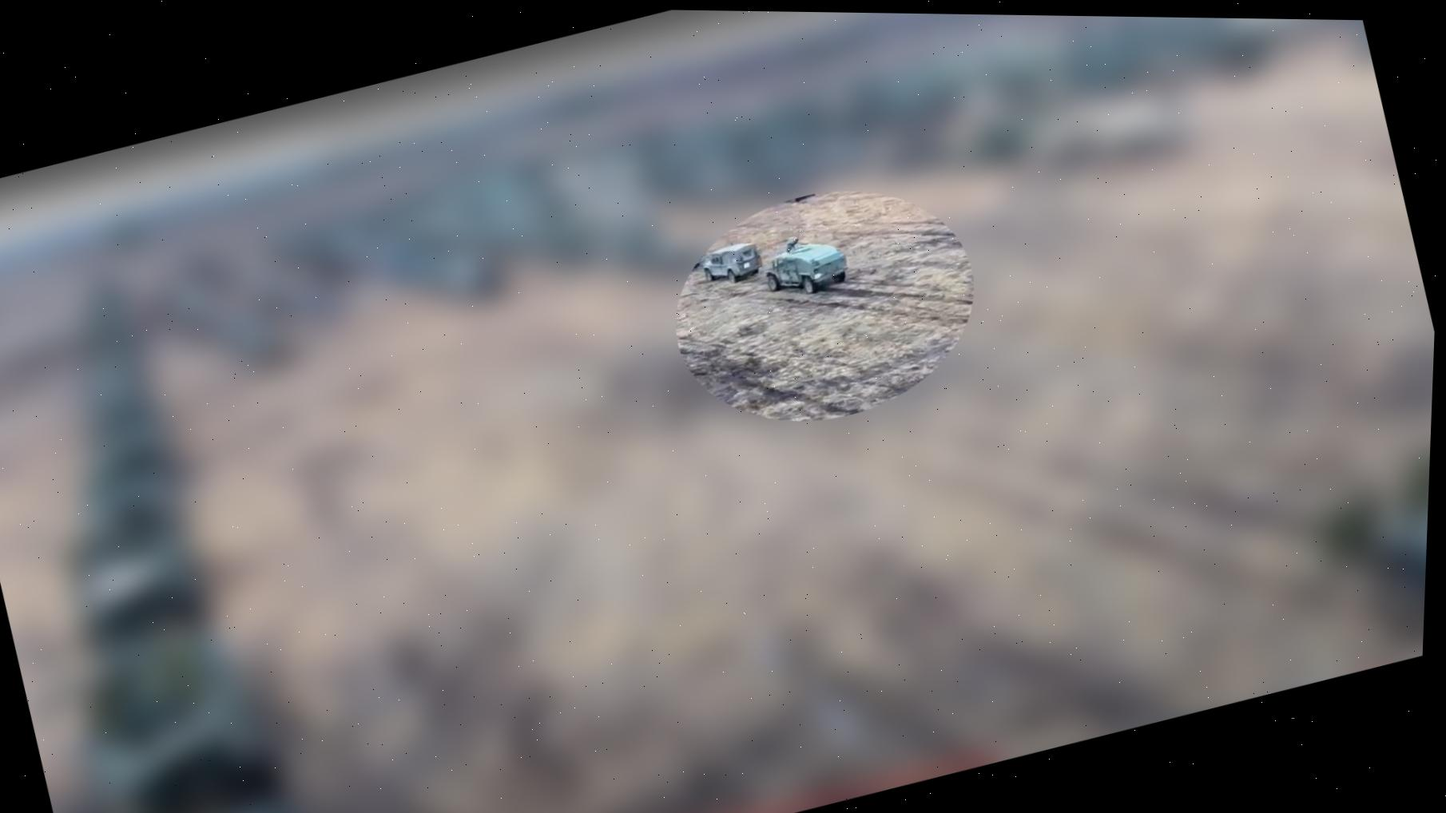armored_car: (753, 226, 863, 311), (694, 238, 770, 293)
